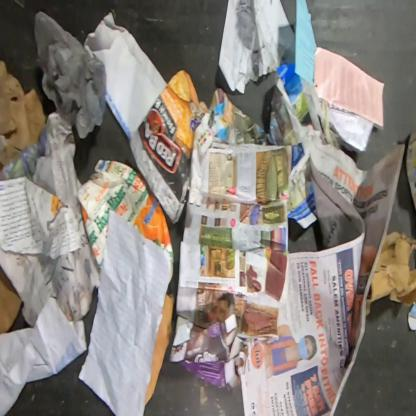cardboard: (76, 160, 175, 283), (0, 58, 49, 168), (365, 230, 415, 319), (144, 292, 174, 408), (0, 266, 23, 334)
soft_plastic: (34, 10, 107, 139)
